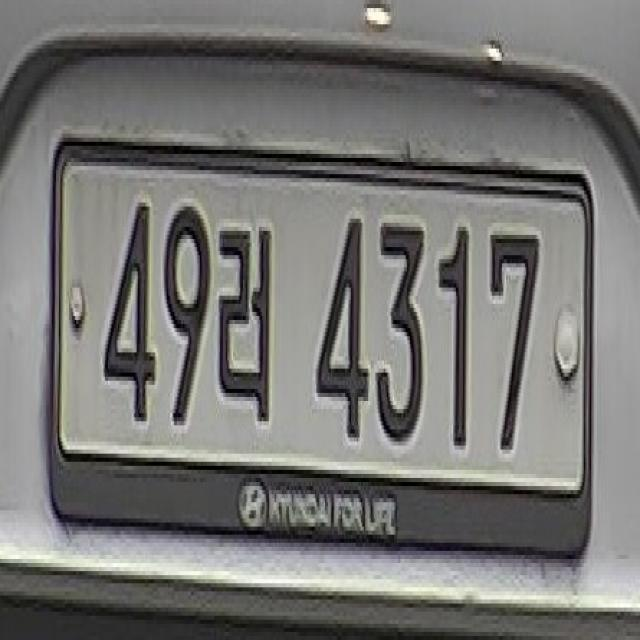1: (438, 203, 476, 462)
3: (376, 197, 431, 452)
4: (313, 203, 372, 462), (100, 188, 160, 437)
7: (488, 208, 542, 464)
9: (162, 186, 212, 435)
leo: (216, 200, 281, 450)
license_plate: (36, 103, 602, 575)
